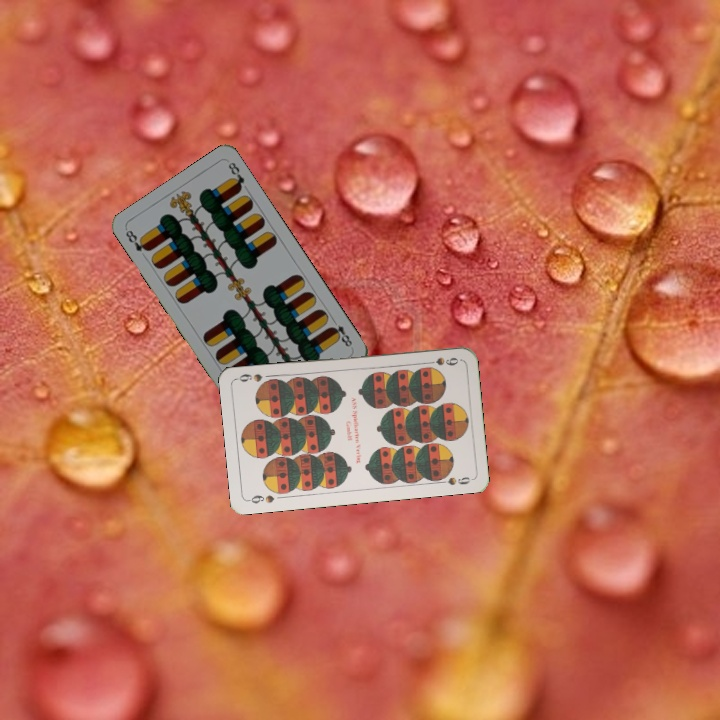E8: (326, 315, 355, 350), (121, 226, 152, 254)
S9: (421, 353, 460, 368), (245, 491, 277, 506)
